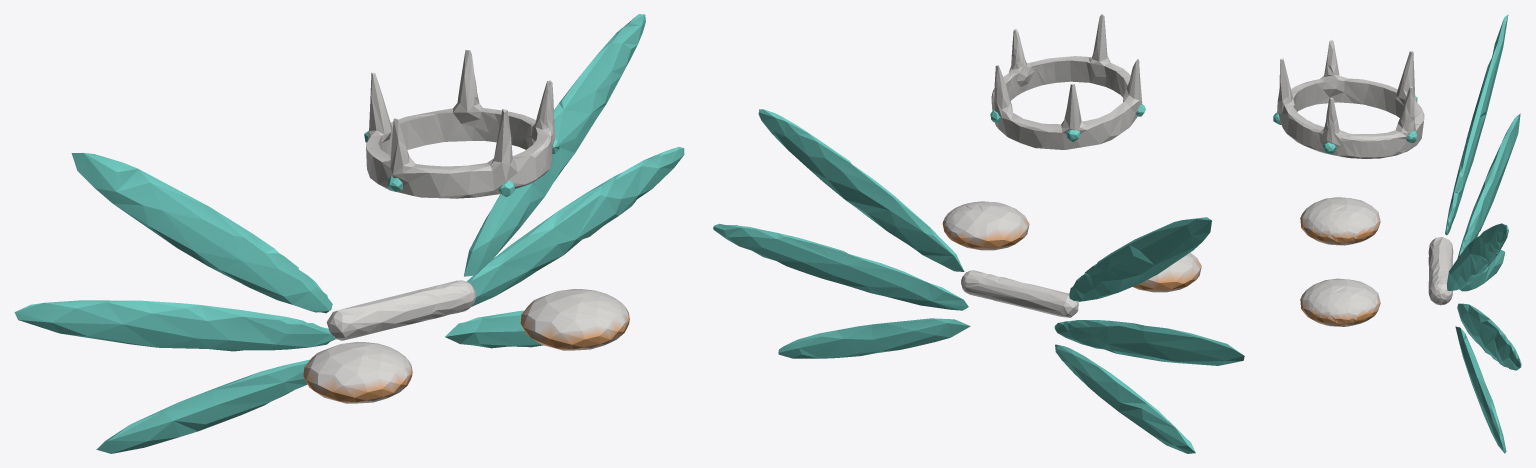
File: tenue_eclat.glb
3 renders of one model, left to right at view 1: azimuth 30°, elevation 25°; view 2: azimuth 150°, elevation 25°; view 3: azimuth 270°, elevation 25°, orthographic. The views are drawn at different scales.
Visible parts, largest first — view 1: torso__ailes_glow, head__coiffe, arm_l__epaule, arm_r__epaule, torso__ailes; view 2: torso__ailes_glow, head__coiffe, arm_l__epaule, torso__ailes, arm_r__epaule; view 3: torso__ailes_glow, head__coiffe, arm_r__epaule, arm_l__epaule, torso__ailes, head__coiffe_glow.
Boxes of the visible parts, box(x1,y1,x2,y2) form: torso__ailes_glow: box(14, 14, 684, 453); head__coiffe: box(366, 50, 555, 198); arm_l__epaule: box(520, 289, 629, 350); arm_r__epaule: box(303, 342, 412, 403); torso__ailes: box(326, 280, 475, 340); torso__ailes_glow: box(713, 109, 1244, 453); head__coiffe: box(991, 14, 1142, 149); arm_l__epaule: box(942, 201, 1029, 250); torso__ailes: box(961, 270, 1078, 317); arm_r__epaule: box(1133, 252, 1201, 292); torso__ailes_glow: box(1445, 14, 1521, 453); head__coiffe: box(1277, 39, 1424, 158); arm_r__epaule: box(1300, 197, 1380, 245); arm_l__epaule: box(1300, 278, 1380, 326); torso__ailes: box(1428, 237, 1453, 305); head__coiffe_glow: box(1273, 96, 1417, 153).
Bounding box in the file's own units: 1.48 × 0.8213 × 0.6181.
